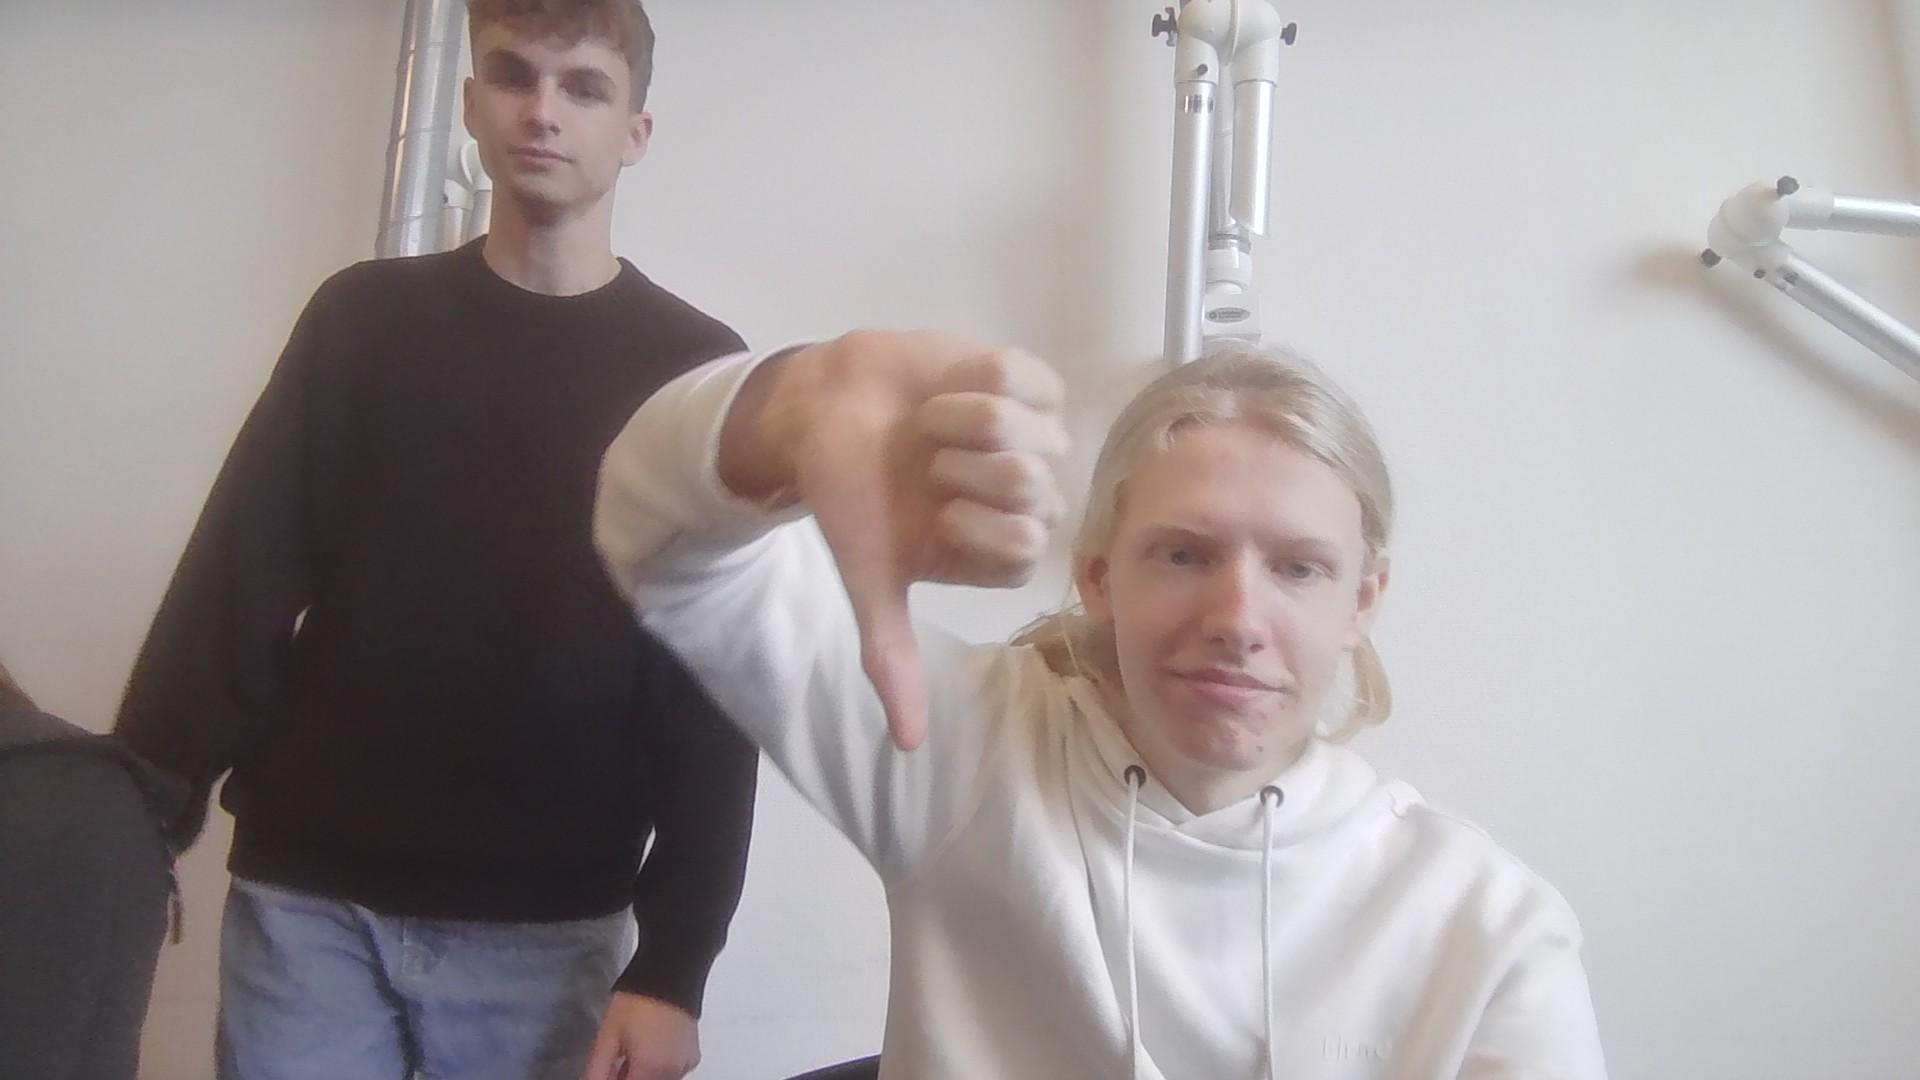thumbs down: (810, 318, 1069, 753)
